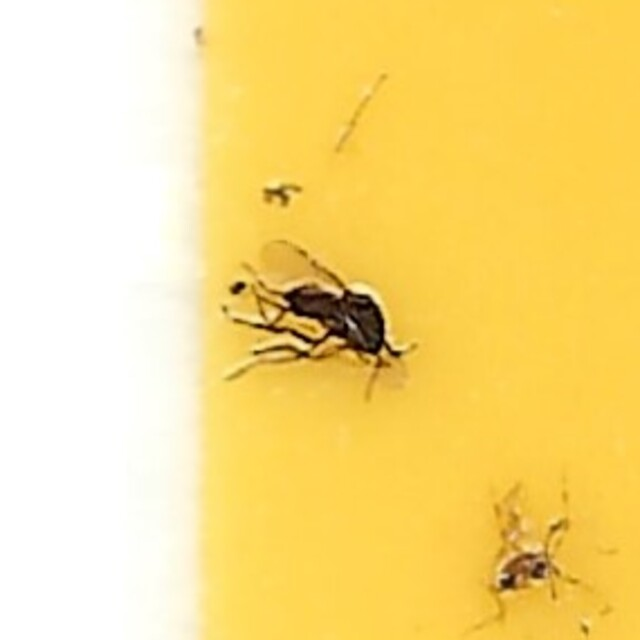Brachycera: (225, 245, 415, 395)
